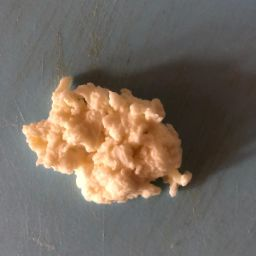Crumbled Feta: (18, 66, 212, 226), (54, 73, 169, 205), (70, 84, 172, 211), (98, 98, 193, 213), (23, 107, 104, 183)
